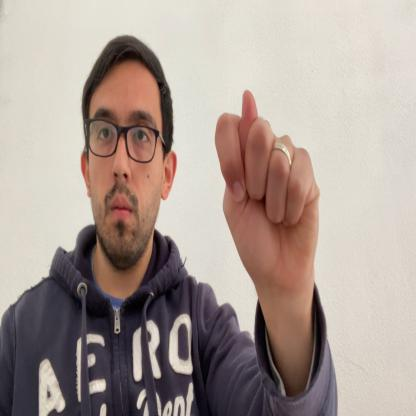T: (214, 90, 320, 290)
